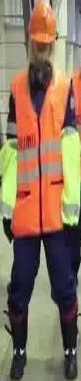boots: (10, 314, 30, 379), (0, 333, 13, 381)
gloves: (0, 203, 9, 243), (1, 217, 13, 243)
hard-hat: (28, 1, 57, 44)
mask: (69, 137, 81, 164)
ppe-suit: (49, 110, 81, 344)
vest: (0, 0, 40, 199)
